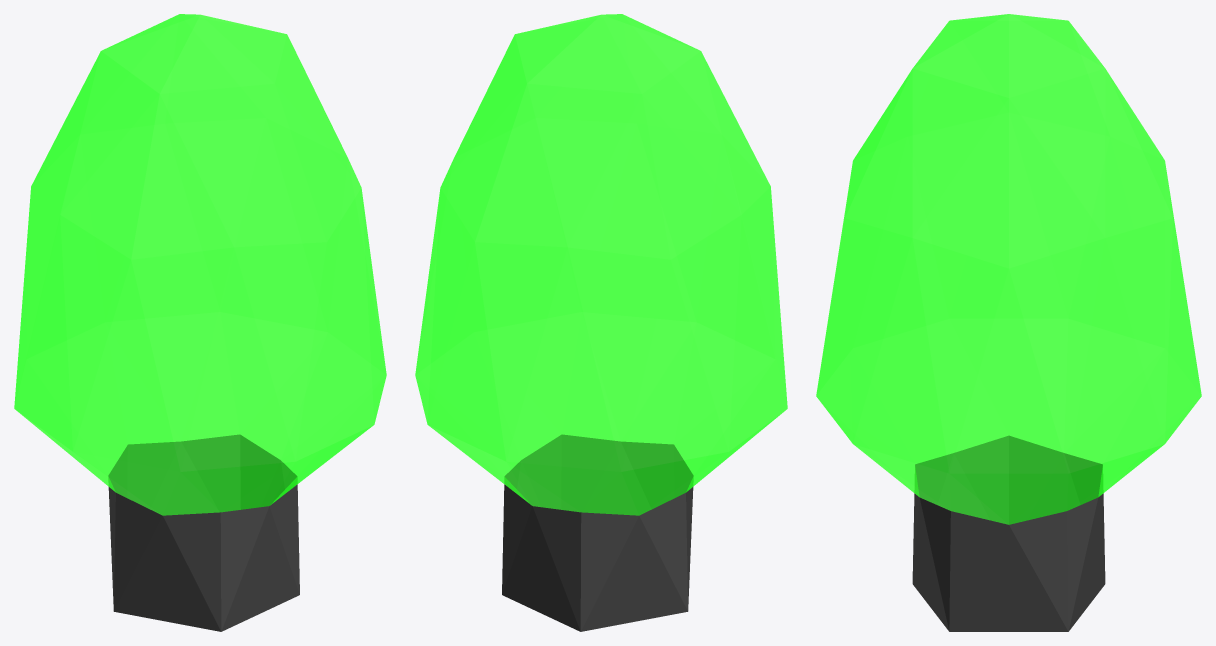
The model's file is Lightbulb.fbx.
3 views of the same model, side by side, from view 1: azimuth 30°, elevation 25°; view 2: azimuth 150°, elevation 25°; view 3: azimuth 270°, elevation 25° (orthographic).
Visible parts, largest first — view 1: Lightbulb; view 2: Lightbulb; view 3: Lightbulb.
Boxes of the visible parts, <box> form: Lightbulb: <box>14,14,386,631</box>; Lightbulb: <box>415,14,787,631</box>; Lightbulb: <box>816,14,1201,631</box>.
Bounding box in the file's own units: 38.04 × 69.73 × 40.
